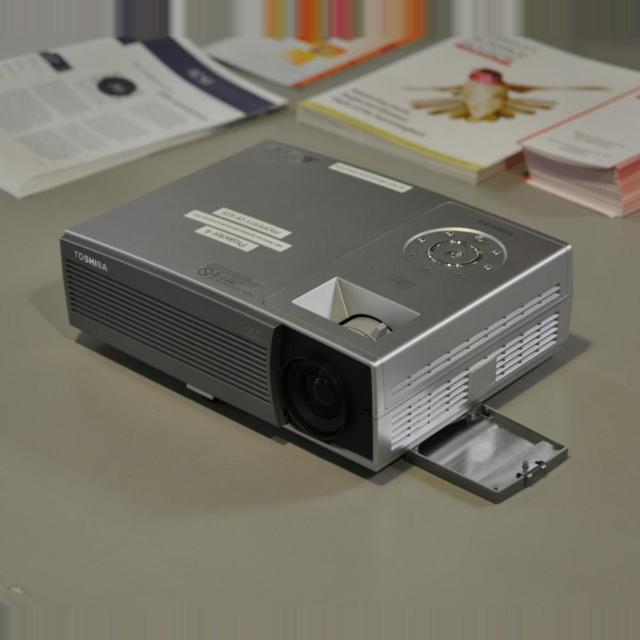Projector: (60, 138, 574, 504)
